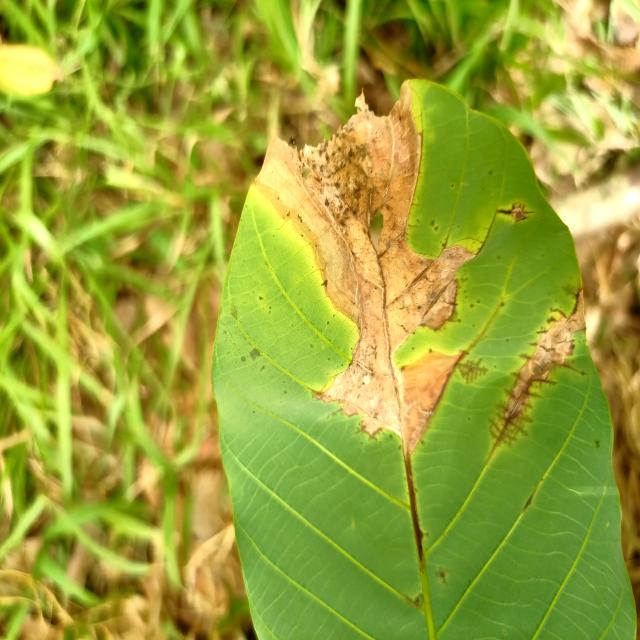Corynespora: (488, 285, 588, 455), (402, 450, 428, 569), (454, 356, 488, 384), (497, 202, 535, 224)
Leaf-Blight: (258, 82, 476, 453)
